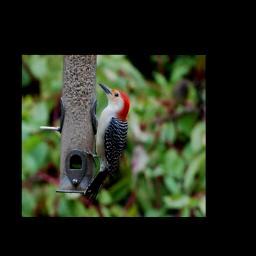Woodpecker: (81, 82, 130, 205)
